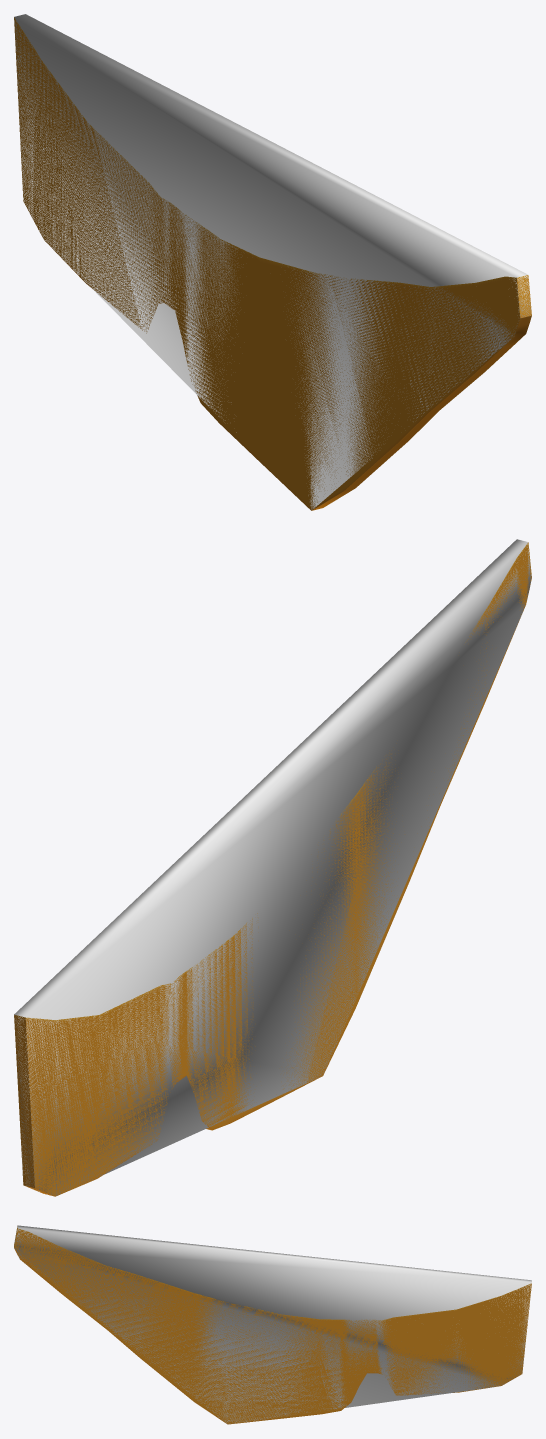
The picture shows the model from 3 angles, top to bottom: view 1: azimuth 30°, elevation 25°; view 2: azimuth 150°, elevation 25°; view 3: azimuth 270°, elevation 25°; orthographic projection. The views are drawn at different scales.
Visible parts, largest first — view 1: decal_kestrel_01_col, decal_kestrel_01; view 2: decal_kestrel_01_col, decal_kestrel_01; view 3: decal_kestrel_01_col, decal_kestrel_01.
Boxes of the visible parts, <box> form: decal_kestrel_01_col: <box>14,14,531,510</box>; decal_kestrel_01: <box>14,17,531,510</box>; decal_kestrel_01_col: <box>14,539,531,1195</box>; decal_kestrel_01: <box>14,542,531,1196</box>; decal_kestrel_01_col: <box>14,1225,531,1424</box>; decal_kestrel_01: <box>14,1226,531,1424</box>.
Size of the model in its own units: 0.0156 by 0.4903 by 1.17.
1 material, 1 textured.
